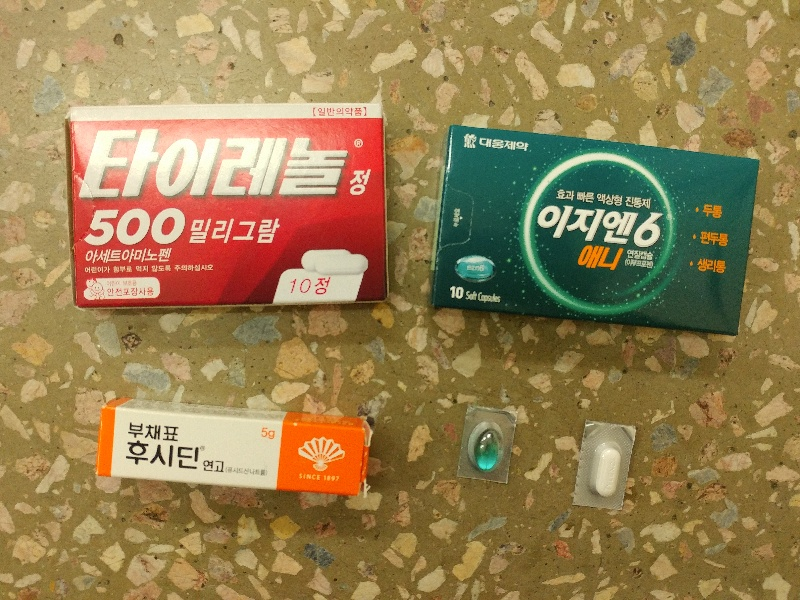ezn: (430, 123, 761, 339)
fucidin: (97, 406, 366, 500)
pill_ezn: (457, 405, 517, 486)
pill_tylenol: (574, 425, 635, 508)
tylenol: (63, 103, 389, 302)
